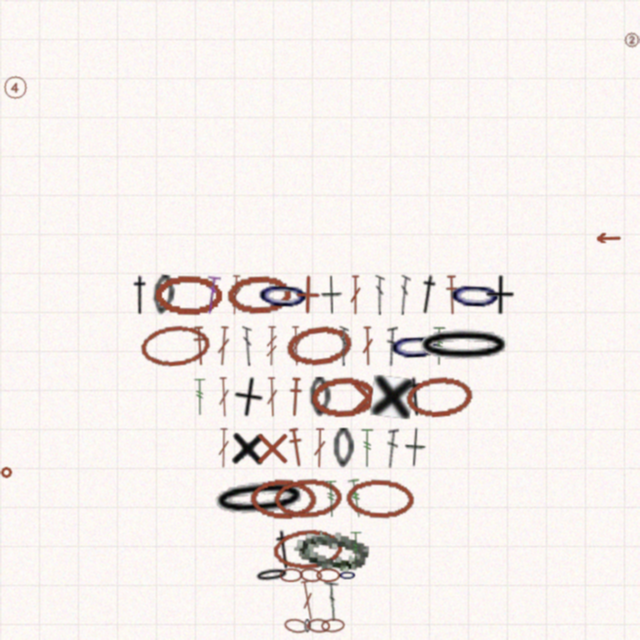chain: (208, 475, 311, 523), (414, 326, 514, 366), (293, 527, 370, 573), (139, 322, 212, 369), (284, 322, 355, 370), (272, 527, 343, 572), (404, 374, 475, 419), (273, 477, 342, 520), (310, 375, 378, 418), (345, 478, 414, 520), (249, 478, 318, 519), (226, 274, 293, 316), (154, 274, 222, 315), (387, 325, 444, 367), (255, 274, 312, 316), (447, 274, 504, 316), (151, 274, 176, 316), (309, 377, 331, 417), (333, 428, 354, 468), (254, 566, 290, 584), (283, 617, 309, 635), (299, 567, 323, 583), (321, 618, 345, 633), (307, 618, 330, 633), (279, 568, 303, 582), (316, 568, 340, 582), (338, 568, 357, 582), (304, 619, 311, 633)
double: (298, 580, 317, 621), (203, 274, 221, 315), (324, 581, 340, 621), (312, 428, 327, 468), (216, 326, 231, 366), (228, 275, 243, 315), (385, 428, 399, 468), (217, 377, 231, 417), (265, 377, 279, 417), (289, 326, 303, 366), (397, 275, 411, 315), (217, 428, 230, 468), (361, 326, 374, 366), (349, 275, 362, 315), (386, 326, 398, 366), (242, 326, 253, 366), (338, 326, 349, 366), (374, 275, 385, 315)
half_double: (413, 273, 443, 316), (271, 529, 297, 570), (403, 376, 428, 417), (128, 275, 152, 315), (286, 427, 306, 468), (287, 377, 304, 417), (191, 326, 208, 366), (444, 275, 460, 315)
noise: (2, 74, 28, 100), (622, 30, 640, 49), (594, 233, 621, 243), (0, 466, 12, 478)
single: (370, 375, 414, 419), (287, 274, 328, 315), (252, 428, 292, 468), (348, 377, 388, 417), (230, 375, 266, 419), (229, 427, 267, 468), (484, 275, 515, 315), (404, 427, 427, 468), (321, 275, 343, 315)
treble: (347, 478, 365, 519), (324, 479, 339, 519), (360, 428, 375, 468), (432, 326, 447, 366), (349, 530, 363, 570), (193, 377, 207, 417), (265, 326, 278, 366)
